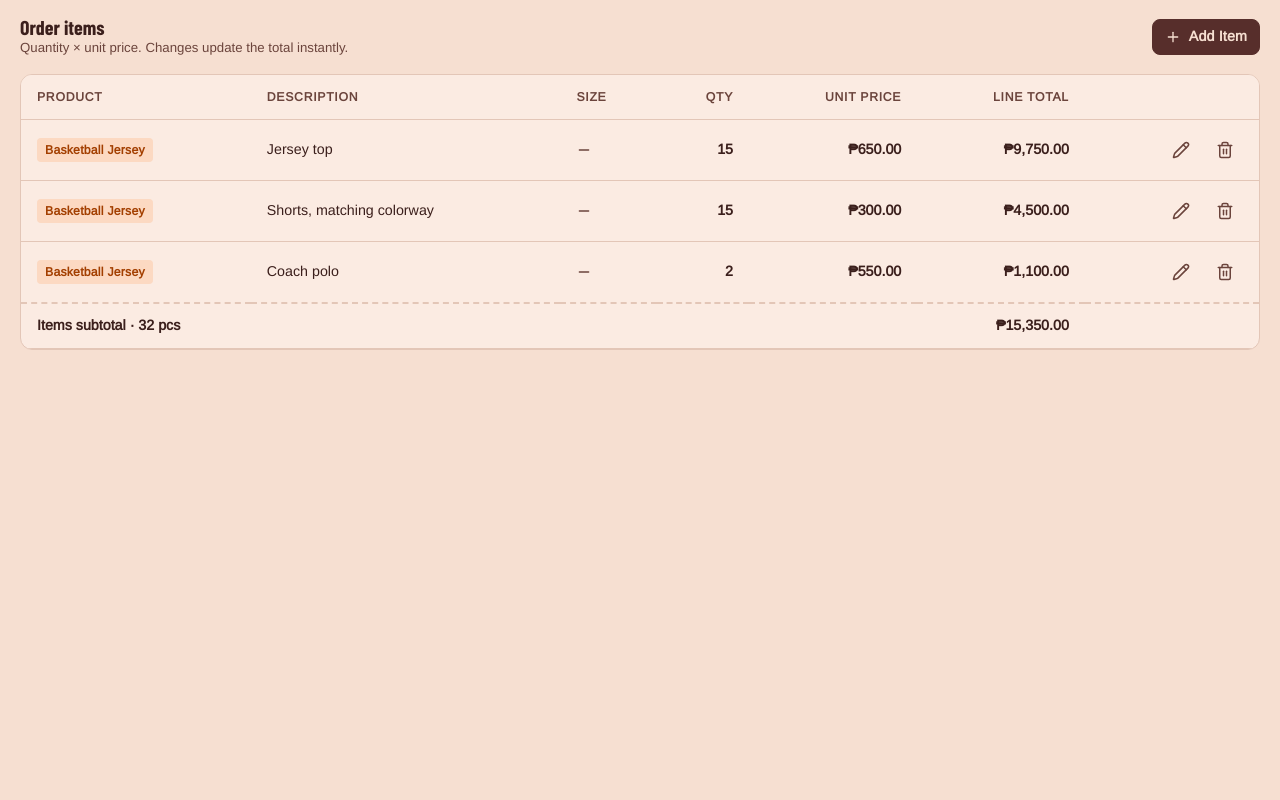
Test: Delete Item › focuses the previous row's Edit when the last row is deleted
Click the button named "Delete item 3, Coach polo" at (1225, 272), box [1207,254,1243,290]
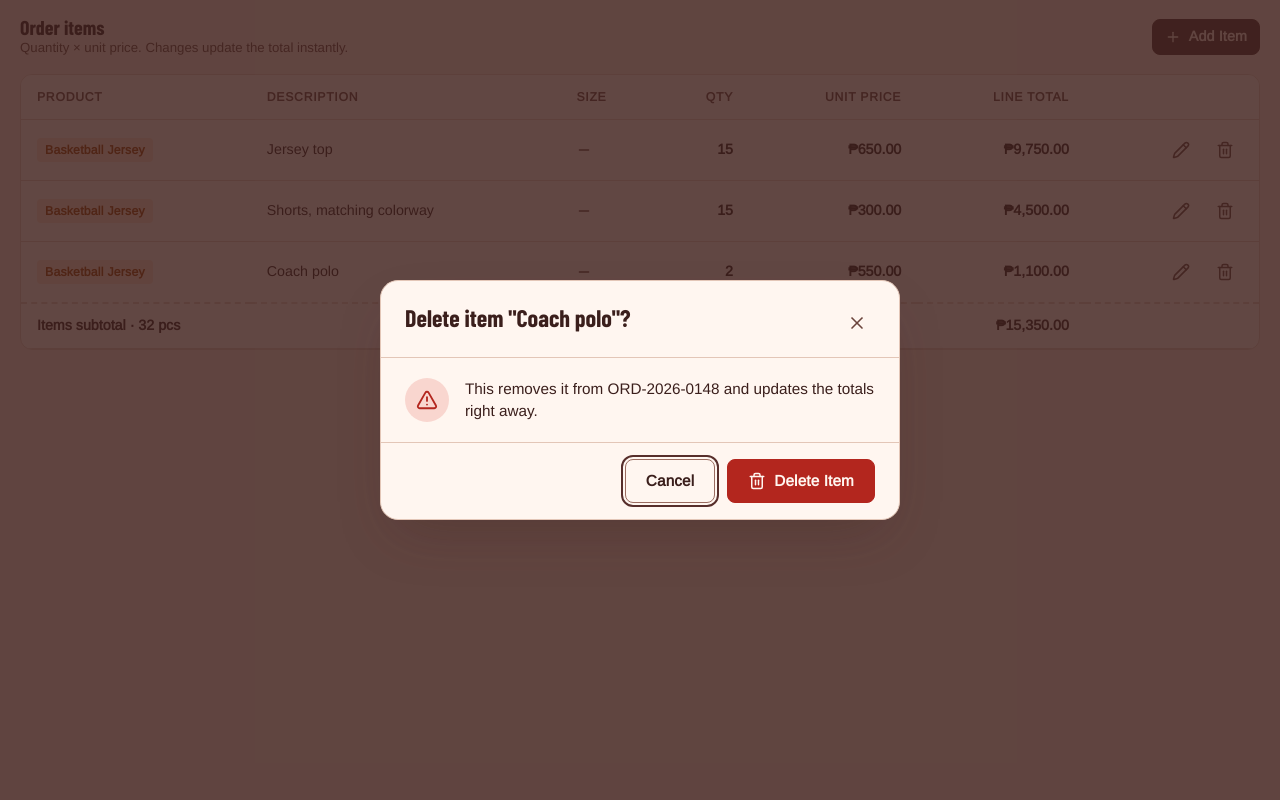
Click the button "Delete Item" at (801, 481), box [727,459,875,503]
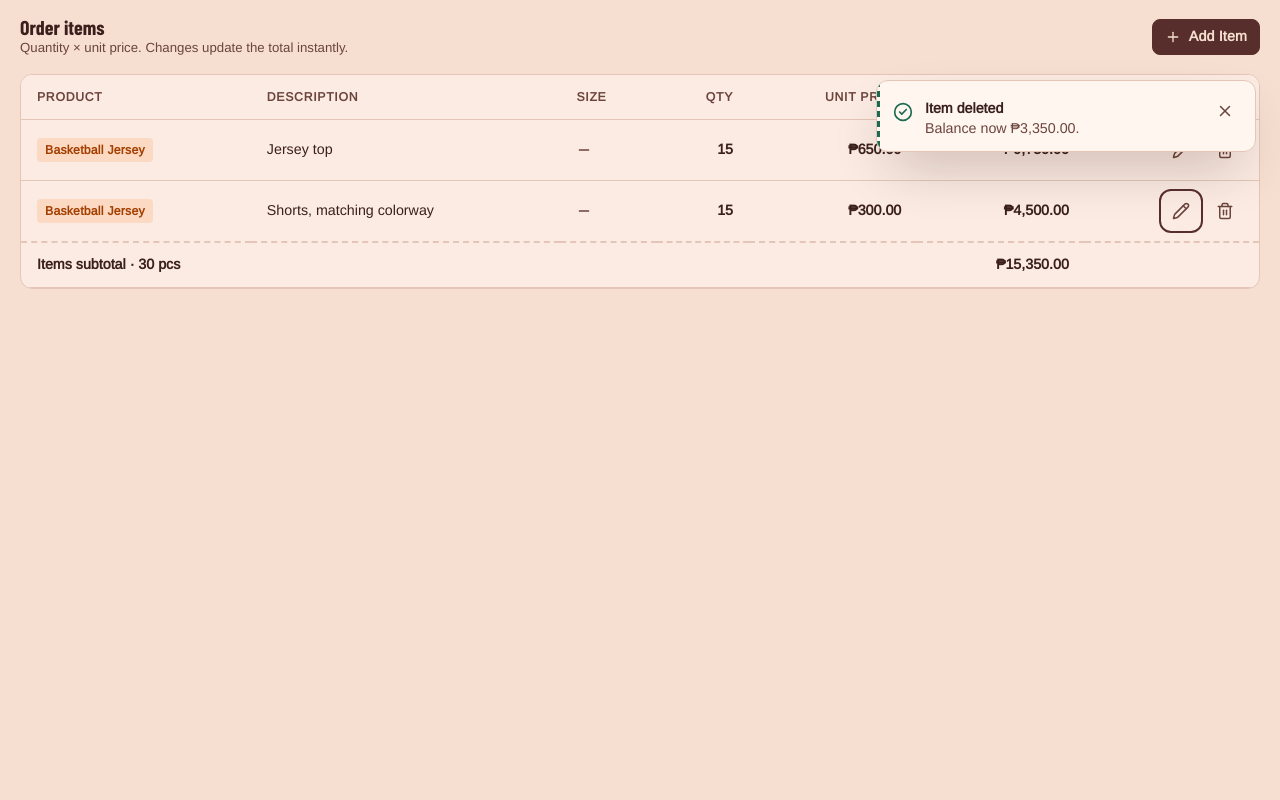
Expected: the cell "Coach polo" is gone
